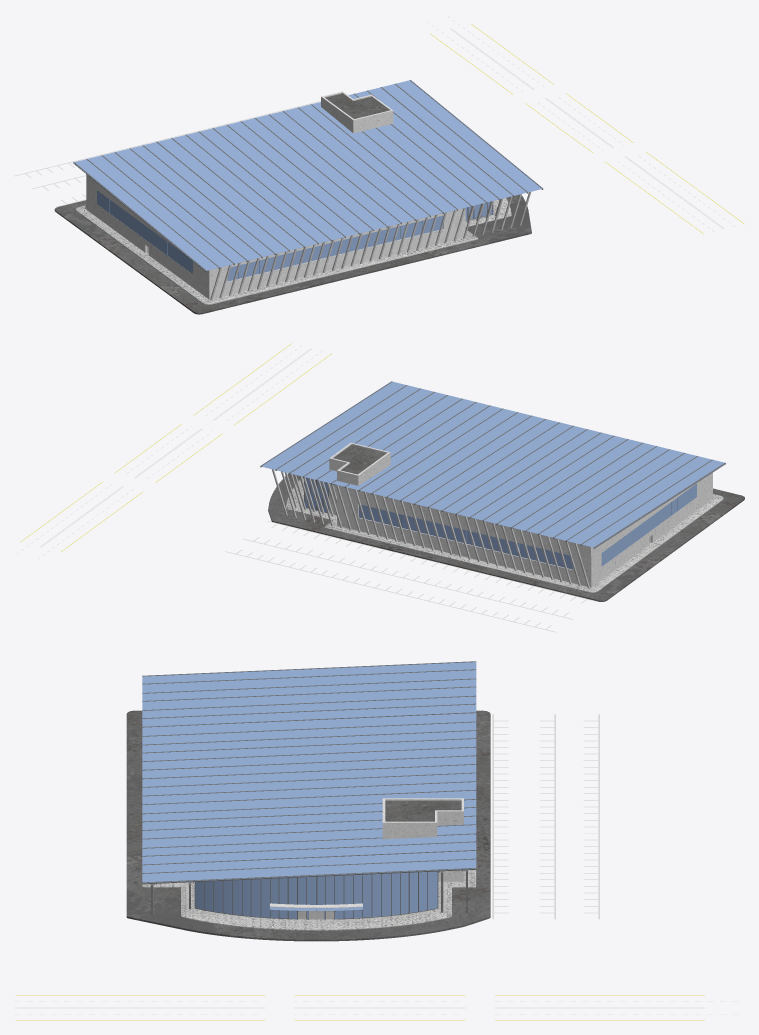
The model's file is building.fbx.
The picture shows the model from 3 angles, top to bottom: view 1: azimuth 30°, elevation 25°; view 2: azimuth 150°, elevation 25°; view 3: azimuth 270°, elevation 25°; orthographic projection. The views are drawn at different scales.
Parts seen in each view (by area): view 1: SM_roof_glass, SM_fasade_walls, SM_walkways, SM_glass_windows, SM_facade_decor, SM_floor, SM_traffic_lines, SM_elevator_room_2nd_floor, SM_roof, SM_parking_lot; view 2: SM_roof_glass, SM_fasade_walls, SM_walkways, SM_facade_decor, SM_glass_windows, SM_floor, SM_parking_lot, SM_elevator_room_2nd_floor, SM_traffic_lines, SM_roof; view 3: SM_roof_glass, SM_walkways, SM_front_glass, SM_floor, SM_traffic_lines, SM_parking_lot, SM_elevator_room_2nd_floor, SM_front_supporting beams, SM_roof.
Boxes of the visible parts, left/top/right/bottom form: SM_roof_glass: left=73, top=80, right=543, bottom=271; SM_fasade_walls: left=86, top=174, right=465, bottom=299; SM_walkways: left=54, top=195, right=531, bottom=314; SM_glass_windows: left=97, top=190, right=443, bottom=281; SM_facade_decor: left=85, top=192, right=531, bottom=300; SM_floor: left=75, top=198, right=511, bottom=304; SM_traffic_lines: left=426, top=16, right=744, bottom=233; SM_elevator_room_2nd_floor: left=321, top=91, right=393, bottom=133; SM_roof: left=325, top=93, right=389, bottom=118; SM_parking_lot: left=14, top=94, right=347, bottom=206; SM_roof_glass: left=260, top=381, right=725, bottom=548; SM_fasade_walls: left=337, top=472, right=712, bottom=587; SM_walkways: left=268, top=473, right=744, bottom=601; SM_facade_decor: left=271, top=469, right=713, bottom=588; SM_glass_windows: left=359, top=483, right=696, bottom=569; SM_floor: left=286, top=477, right=723, bottom=592; SM_parking_lot: left=225, top=521, right=597, bottom=632; SM_elevator_room_2nd_floor: left=329, top=442, right=390, bottom=518; SM_traffic_lines: left=17, top=343, right=331, bottom=558; SM_roof: left=333, top=444, right=386, bottom=474; SM_roof_glass: left=142, top=661, right=476, bottom=884; SM_walkways: left=126, top=710, right=490, bottom=941; SM_front_glass: left=195, top=871, right=437, bottom=918; SM_floor: left=142, top=870, right=476, bottom=930; SM_traffic_lines: left=14, top=995, right=738, bottom=1020; SM_parking_lot: left=492, top=714, right=599, bottom=919; SM_elevator_room_2nd_floor: left=382, top=798, right=463, bottom=839; SM_front_supporting beams: left=194, top=871, right=438, bottom=919; SM_roof: left=385, top=800, right=461, bottom=821.
Size of what is drawn, in the model's own units: 15130 by 1669 by 15104.
10 materials, 8 textured.
